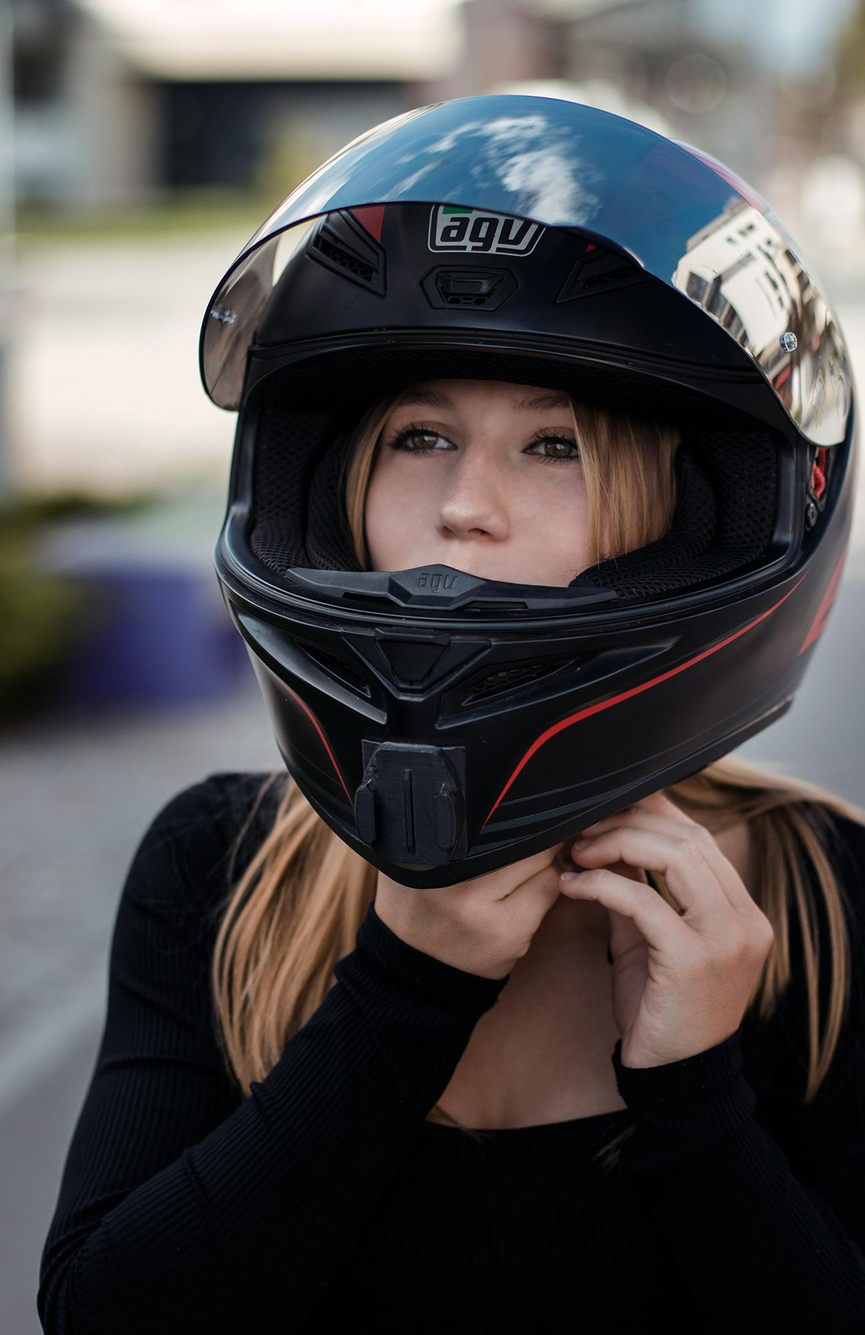helmet: (195, 88, 865, 894)
